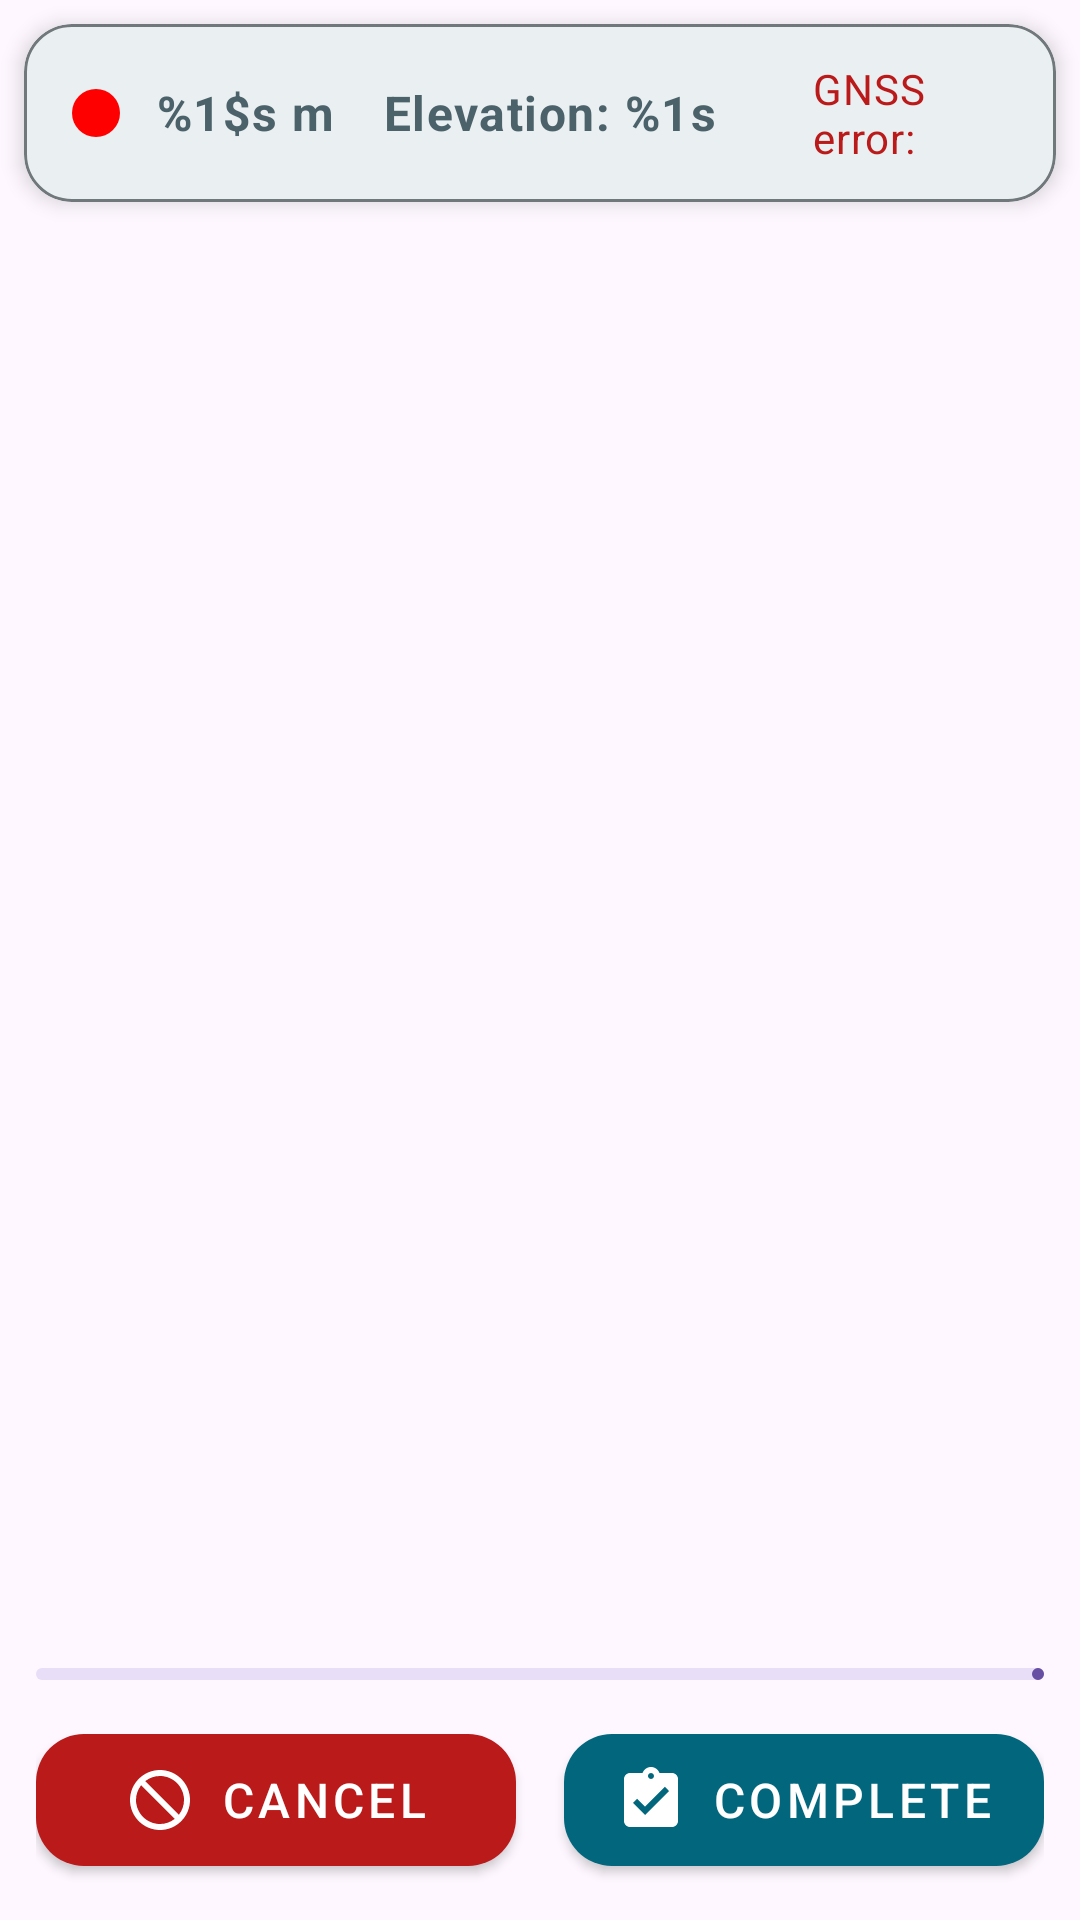

Icon bounding boxes for this 1080x1920 phone screenshot, format (x1, y1, x2, y2):
Recording In Progress: (72, 89, 120, 137)
